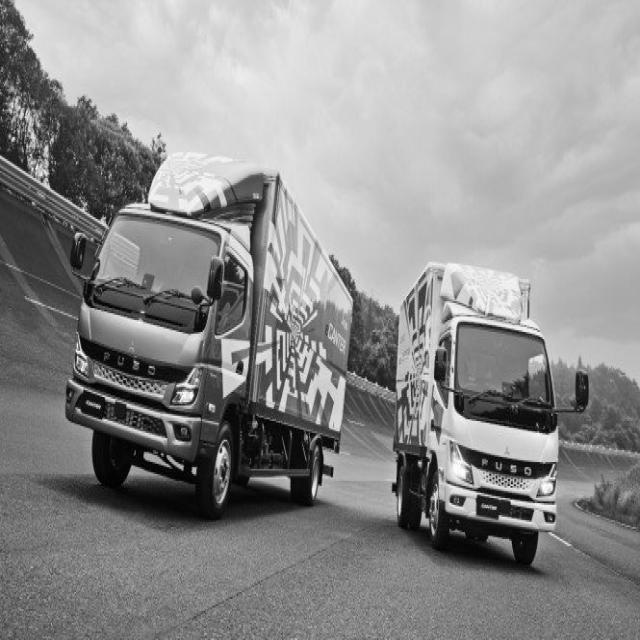truck: (45, 192, 280, 498), (402, 303, 587, 553)
